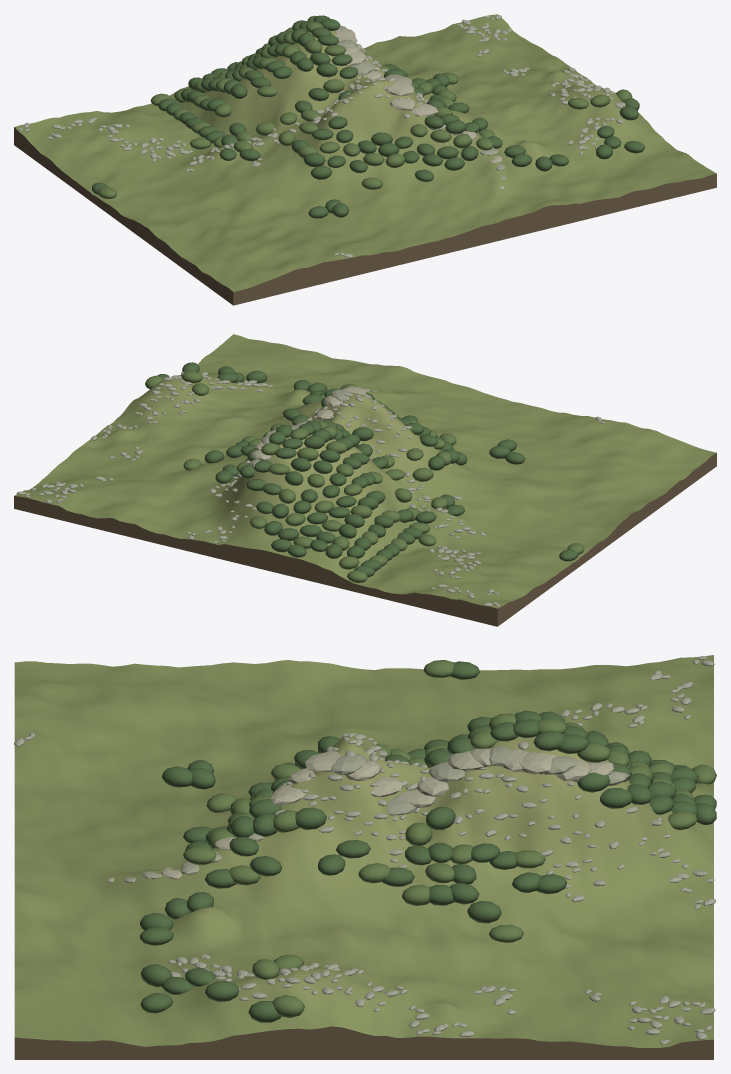
File: gms-08.glb
The picture shows the model from 3 angles, top to bottom: view 1: azimuth 30°, elevation 25°; view 2: azimuth 150°, elevation 25°; view 3: azimuth 270°, elevation 25°; orthographic projection. The views are drawn at different scales.
Visible parts, largest first — view 1: GMS-08 - estudio del paisaje; view 2: GMS-08 - estudio del paisaje; view 3: GMS-08 - estudio del paisaje.
Part boxes in pixels (box(x1,y1,x2,y2)): GMS-08 - estudio del paisaje: box(14, 14, 716, 305); GMS-08 - estudio del paisaje: box(14, 334, 716, 626); GMS-08 - estudio del paisaje: box(14, 655, 716, 1059).
Size of the model in its own units: 12.01 by 2.34 by 9.48.
